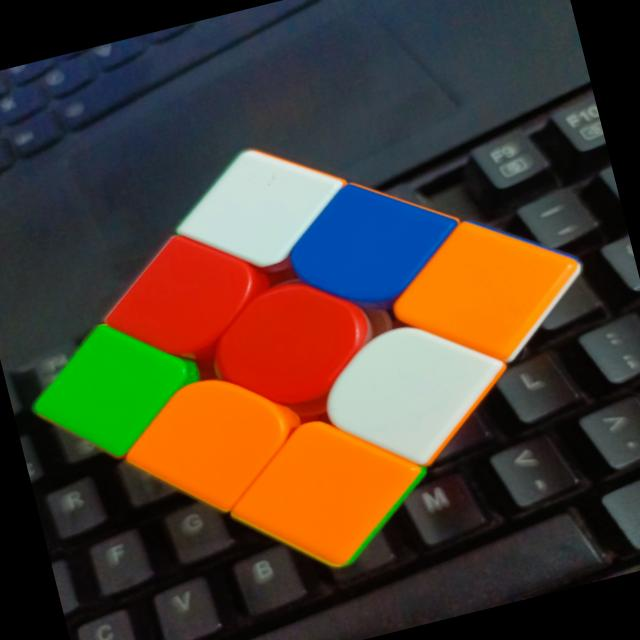rubik: (0, 75, 639, 630)
